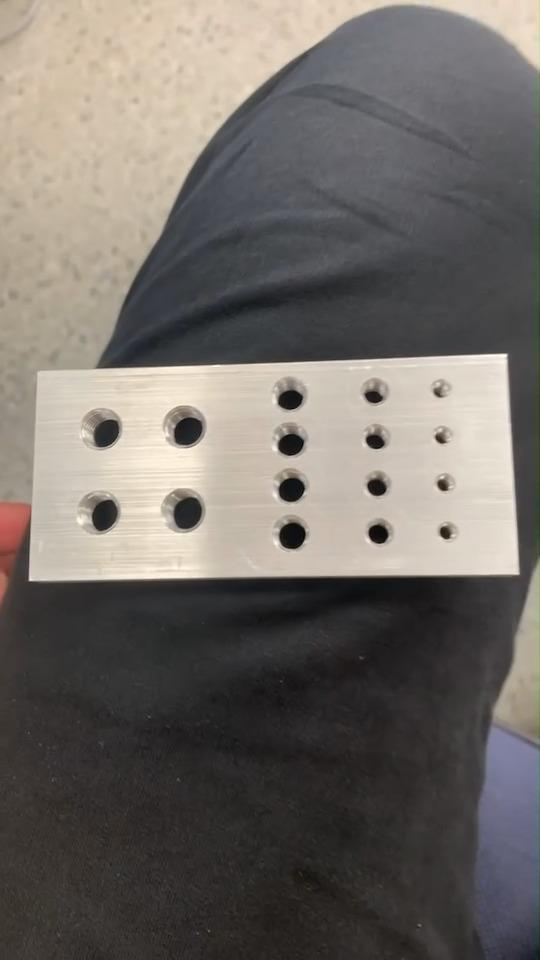hole: (160, 404, 208, 451), (160, 490, 206, 535), (76, 489, 120, 535), (80, 406, 124, 451), (272, 513, 311, 555), (269, 468, 309, 506), (271, 422, 312, 458), (270, 376, 310, 412), (359, 376, 394, 408), (362, 471, 394, 500), (360, 422, 390, 452), (360, 518, 390, 548), (435, 520, 460, 545), (430, 378, 453, 402), (434, 471, 456, 495), (432, 424, 454, 447)
